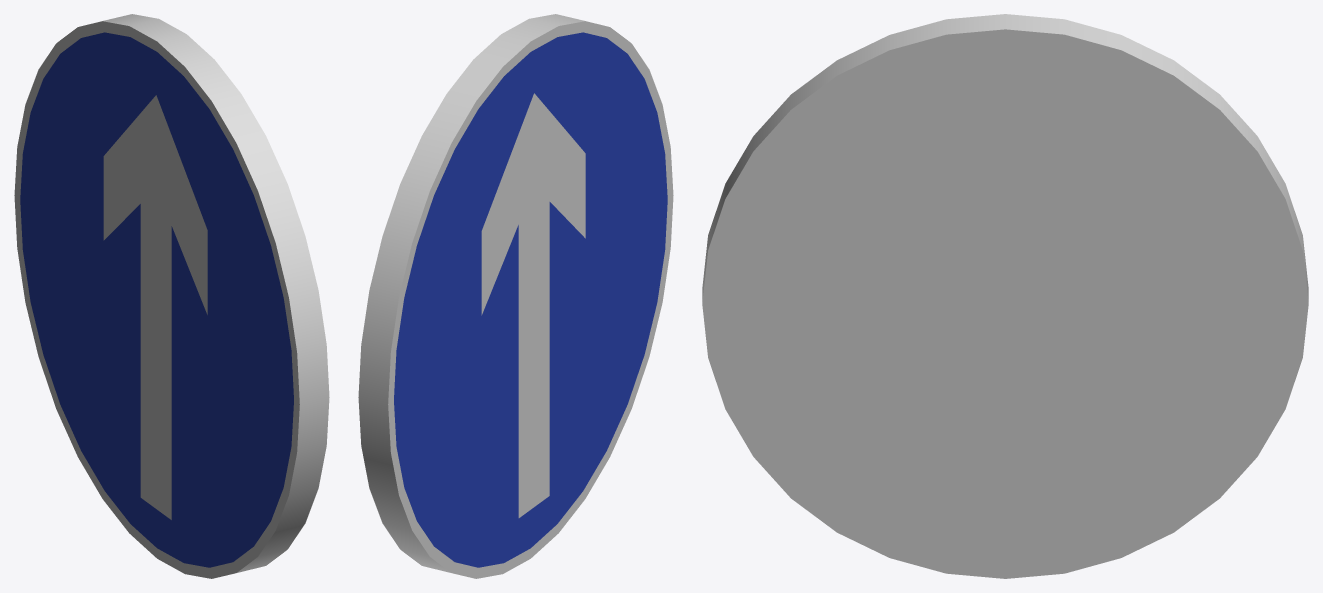
Rendered from Straight.fbx.
The picture shows the model from 3 angles, left to right: view 1: azimuth 30°, elevation 25°; view 2: azimuth 150°, elevation 25°; view 3: azimuth 270°, elevation 25°; orthographic projection. The views are drawn at different scales.
Parts seen in each view (by area): view 1: Straight; view 2: Straight; view 3: Straight.
Part boxes in pixels (x1,y1,x2,y2): Straight: (14,14,329,578); Straight: (358,14,673,578); Straight: (702,14,1308,578).
Size of the model in its own units: 0.0643 by 1 by 1.
